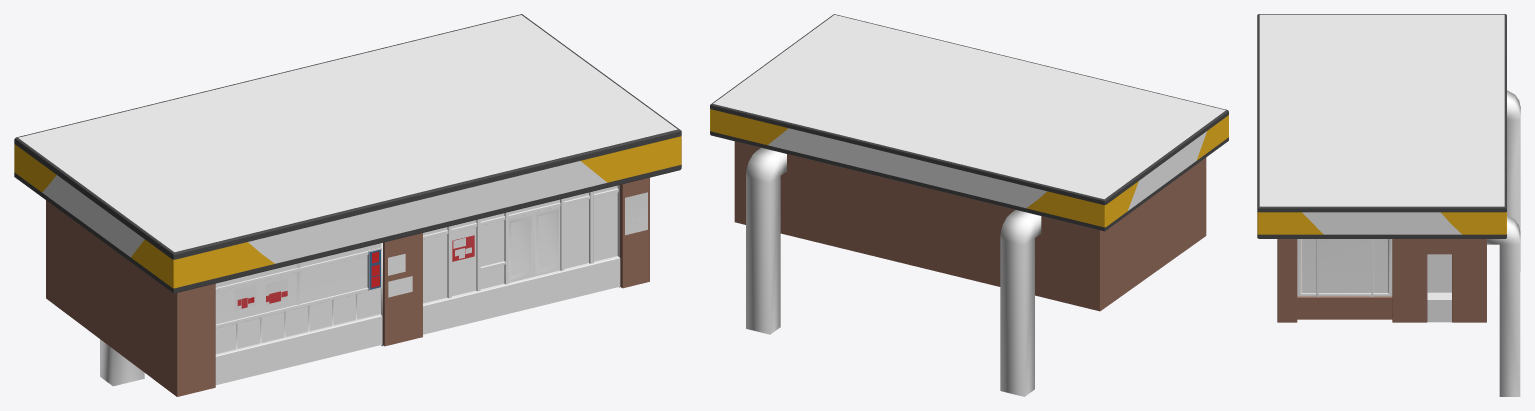
Rendered from s_fuel_island_main.dae.
3 views of the same model, side by side, from view 1: azimuth 30°, elevation 25°; view 2: azimuth 150°, elevation 25°; view 3: azimuth 270°, elevation 25° (orthographic). The views are drawn at different scales.
Visible parts, largest first — view 1: bld_05_main.006; view 2: bld_05_main.006; view 3: bld_05_main.006.
Part boxes in pixels (x1,y1,x2,y2): bld_05_main.006: (14,14,681,396); bld_05_main.006: (710,14,1228,396); bld_05_main.006: (1257,14,1520,396).
Size of the model in its own units: 18.4 by 10.55 by 9.29.
